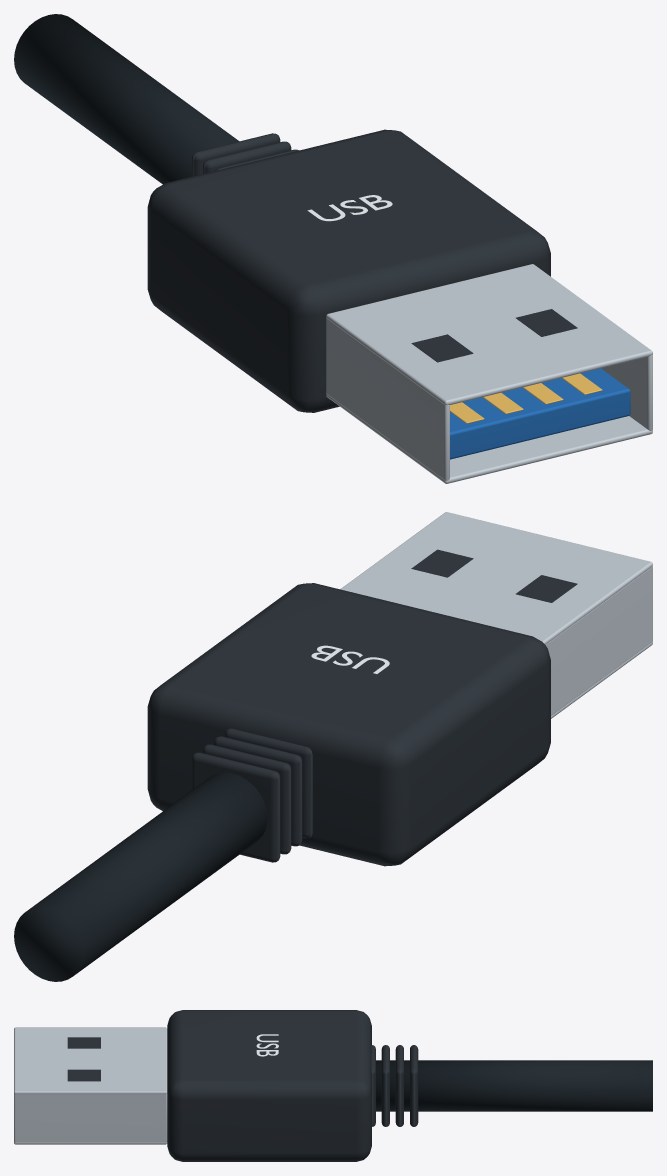
The model's file is USB_A_plug.glb.
3 renders of one model, top to bottom at view 1: azimuth 30°, elevation 25°; view 2: azimuth 150°, elevation 25°; view 3: azimuth 270°, elevation 25°, orthographic. The views are drawn at different scales.
Visible parts, largest first — view 1: Overmould, Shell top, Flexible cable stub, Shell side, Blue contact tongue, Shell bottom, Shell side.001, Strain relief rib.003, Strain relief rib.002, Retention recess, Retention recess.001; view 2: Overmould, Flexible cable stub, Shell top, Shell side, Strain relief rib.003, Strain relief rib.001, Strain relief rib.002, Strain relief rib, Retention recess, Retention recess.001; view 3: Overmould, Flexible cable stub, Shell top, Shell side.001, Strain relief rib.001, Strain relief rib.002, Strain relief rib.003, Shell bottom, Retention recess.001, Retention recess, Strain relief rib, USB.
Part boxes in pixels (x1,y1,x2,y2): Overmould: (147,129,550,412); Shell top: (326,264,652,405); Flexible cable stub: (14,14,239,184); Shell side: (326,318,449,480); Blue contact tongue: (450,368,630,459); Shell bottom: (326,394,652,483); Shell side.001: (601,355,652,430); Strain relief rib.003: (192,133,280,176); Strain relief rib.002: (203,141,291,173); Retention recess: (411,334,473,362); Retention recess.001: (516,309,577,336); Overmould: (147,583,550,866); Flexible cable stub: (14,772,267,981); Shell top: (340,512,652,644); Shell side: (545,566,652,715); Strain relief rib.003: (192,752,280,862); Strain relief rib.001: (214,736,302,846); Strain relief rib.002: (203,744,291,854); Strain relief rib: (225,728,312,838); Retention recess: (516,575,577,602); Retention recess.001: (411,549,473,577); Overmould: (167,1010,371,1161); Flexible cable stub: (376,1060,652,1111); Shell top: (14,1027,167,1094); Shell side.001: (14,1094,167,1142); Strain relief rib.001: (381,1045,389,1126); Strain relief rib.002: (395,1045,403,1126); Strain relief rib.003: (410,1045,418,1126); Shell bottom: (14,1142,167,1144); Retention recess.001: (67,1069,100,1081); Retention recess: (67,1037,100,1048); Strain relief rib: (371,1045,375,1126); USB: (256,1034,278,1056).
Bounding box in the file's own units: 0.015 × 0.00704 × 0.05.
